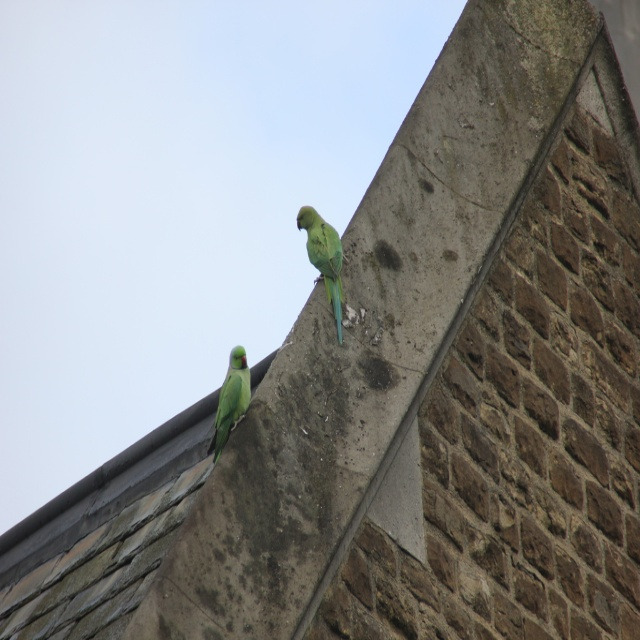Parrot: (294, 201, 342, 348), (206, 342, 252, 460)
